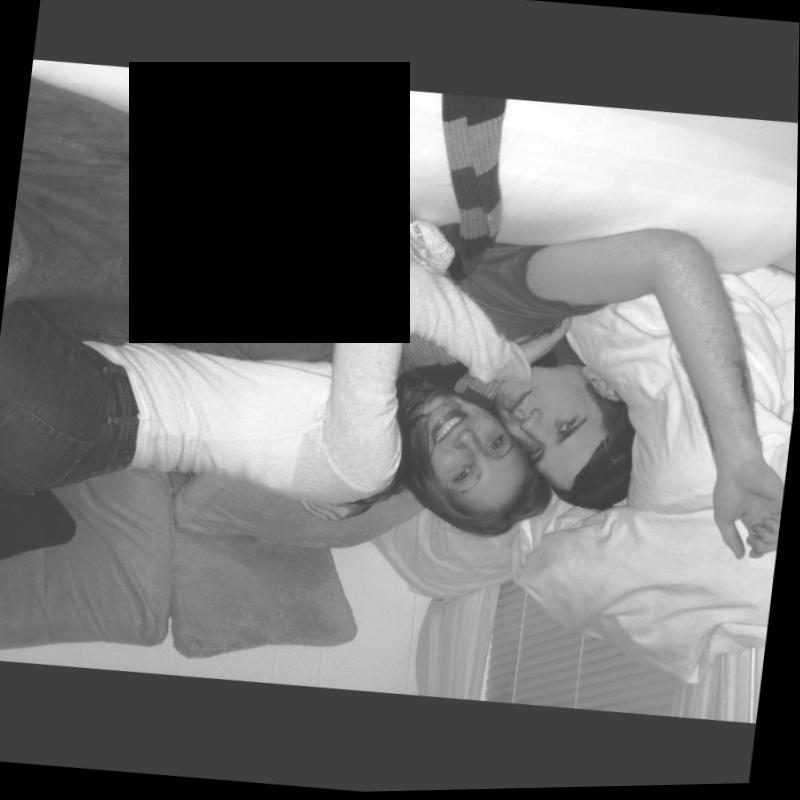pillow: (0, 446, 183, 666), (174, 464, 434, 564)
